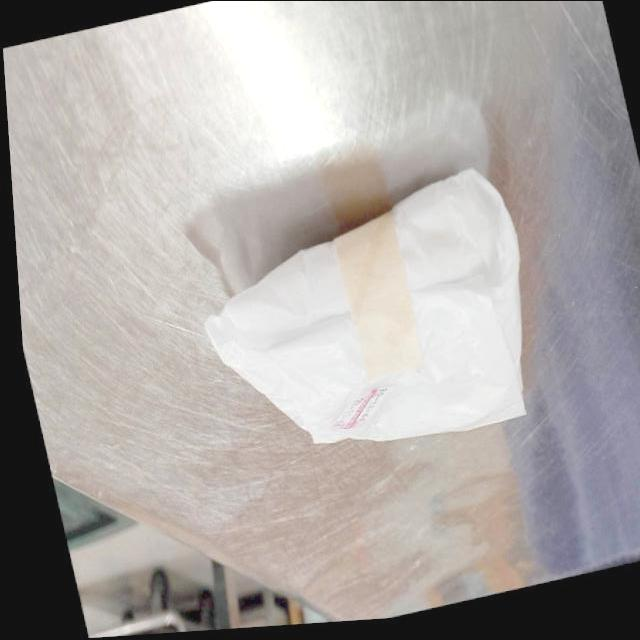General: (3, 1, 637, 627), (202, 165, 529, 446)
